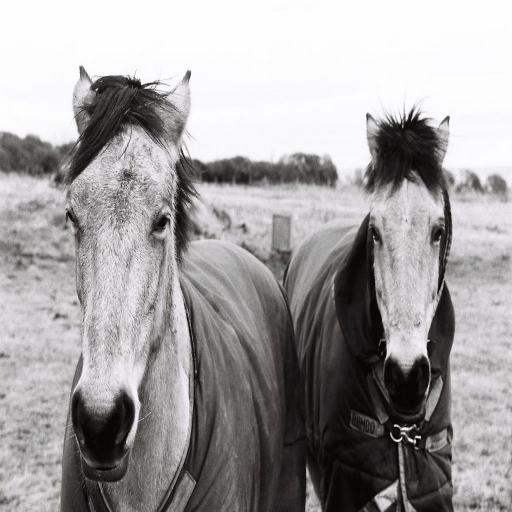horse: (282, 96, 454, 512), (55, 62, 207, 512), (359, 109, 457, 418)
